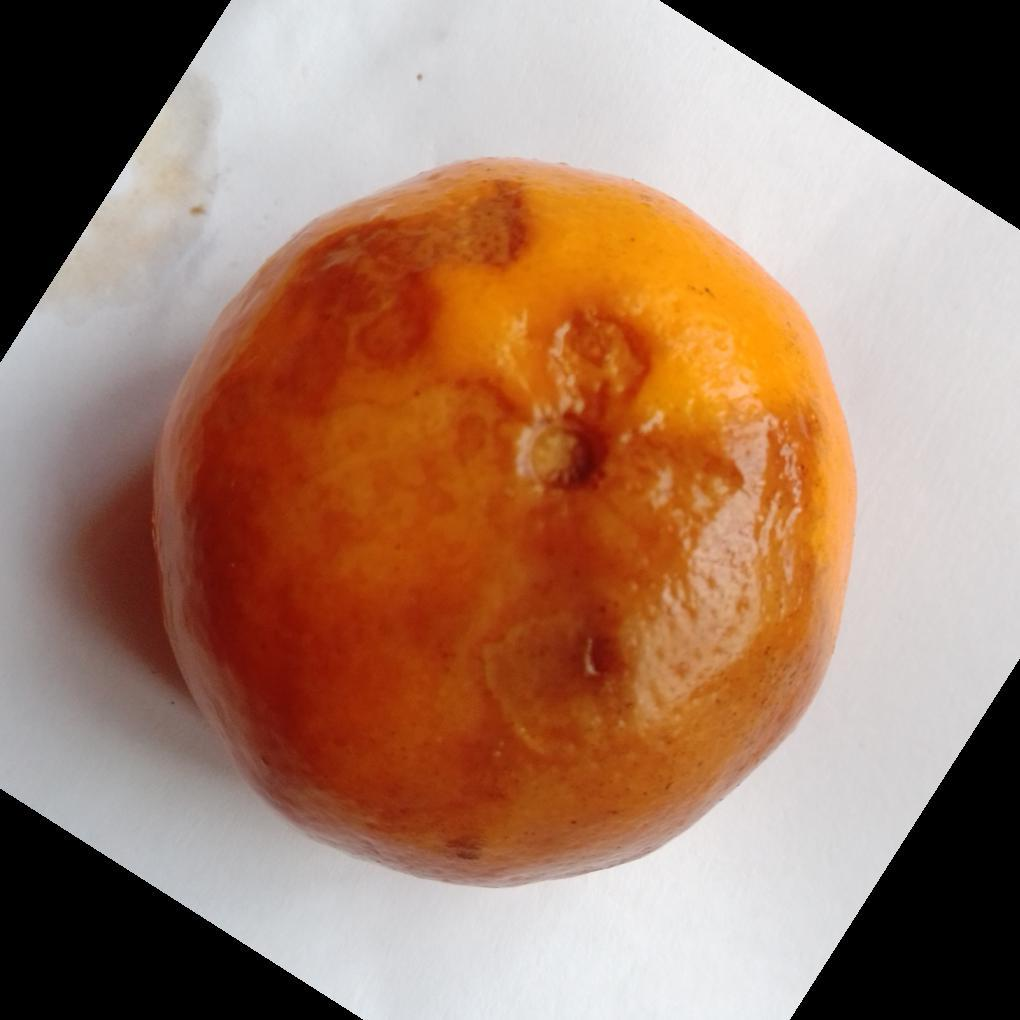FreshOrange: (148, 159, 860, 893)
